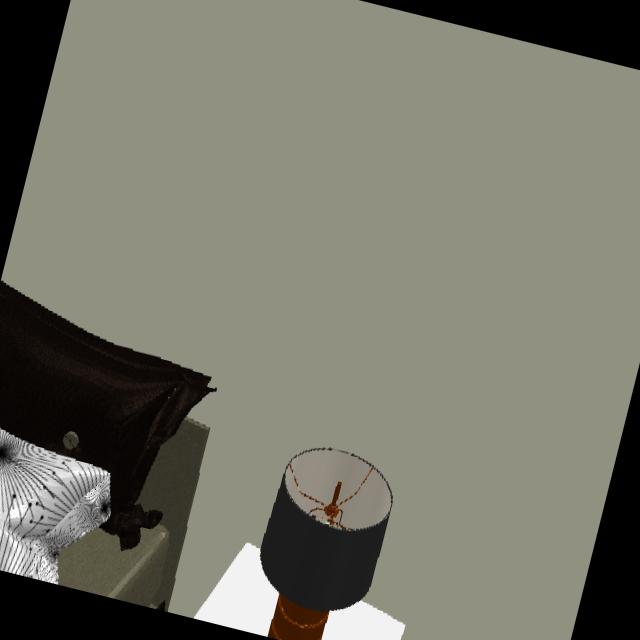bed: (0, 281, 216, 612)
lamp: (258, 447, 393, 640)
nighttable: (190, 542, 278, 637), (320, 601, 390, 640)
pillow: (0, 429, 113, 584)
